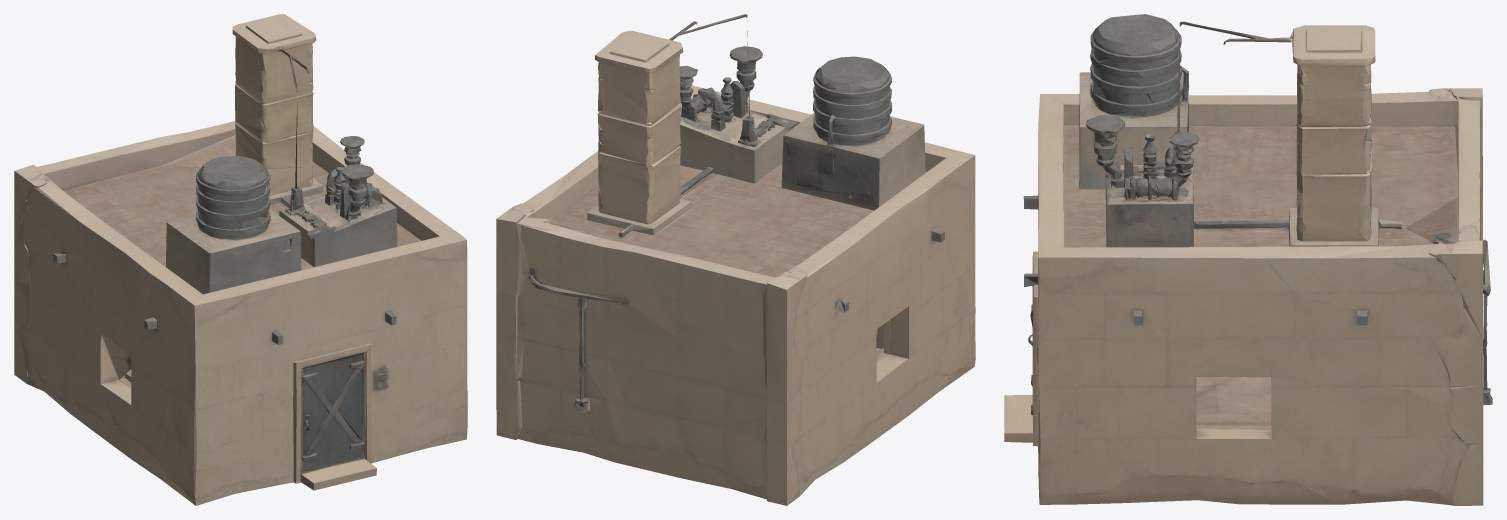
File: concrete.glb
The picture shows the model from 3 angles, left to right: view 1: azimuth 30°, elevation 25°; view 2: azimuth 150°, elevation 25°; view 3: azimuth 270°, elevation 25°; orthographic projection. The views are drawn at different scales.
Parts seen in each view (by area): view 1: wall, roof; view 2: wall, roof; view 3: wall, roof.
Part boxes in pixels (x1,y1,x2,y2): wall: [14, 26, 467, 505]; roof: [15, 14, 466, 305]; wall: [496, 15, 975, 505]; roof: [497, 14, 974, 289]; wall: [1004, 21, 1492, 505]; roof: [1038, 14, 1482, 258].
Size of the model in its own units: 7.23 by 8.1 by 8.5.
Materials: 1 (1 with a texture image).
